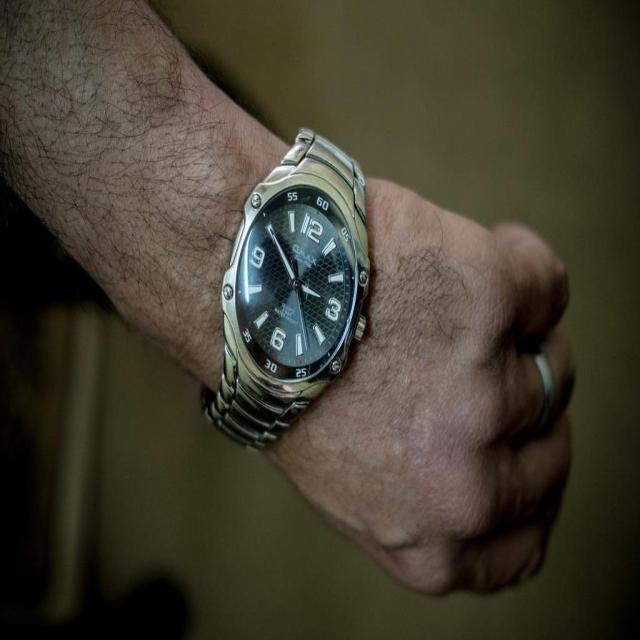Wrist watch: (199, 123, 371, 456)
